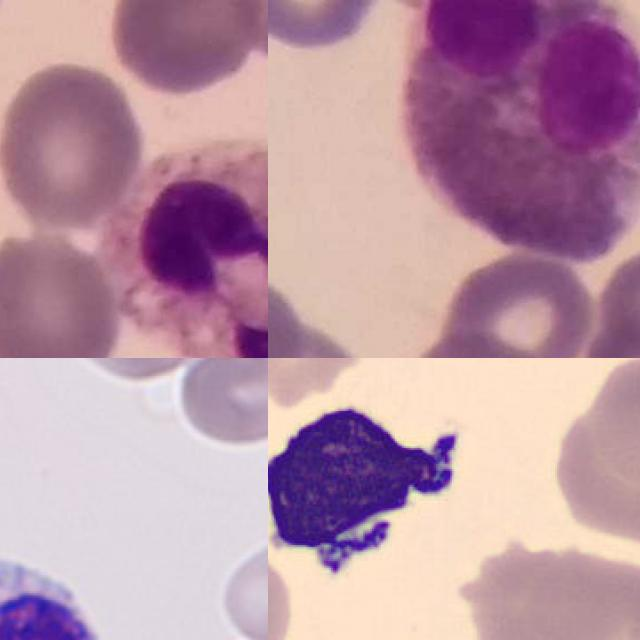Eosinophil: (398, 0, 640, 259)
Lymphocyte: (268, 390, 473, 598)
Neutrophil: (104, 138, 268, 358)
Platelets: (431, 427, 463, 464)
RBC: (447, 525, 640, 640), (544, 358, 640, 552), (173, 358, 268, 450), (216, 532, 268, 640), (52, 358, 212, 388)
